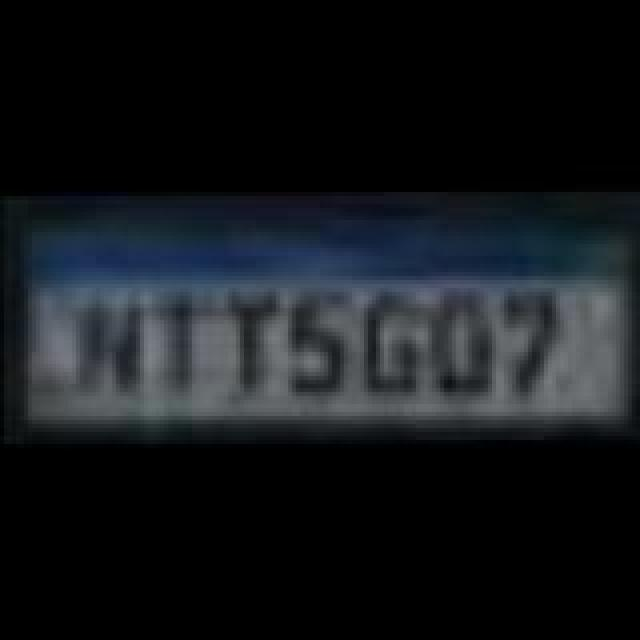5: (286, 286, 350, 398)
7: (494, 284, 558, 396)
D: (436, 296, 496, 404)
G: (360, 288, 428, 396)
N: (80, 290, 148, 398)
T: (214, 294, 278, 398), (148, 294, 208, 398)
